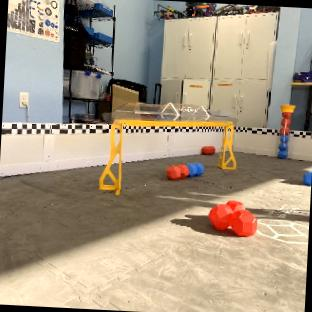V5_BLUE: (186, 162, 203, 176), (303, 170, 311, 185)
V5_RED: (208, 201, 256, 236), (279, 104, 294, 157), (166, 164, 188, 179), (201, 145, 215, 154)
